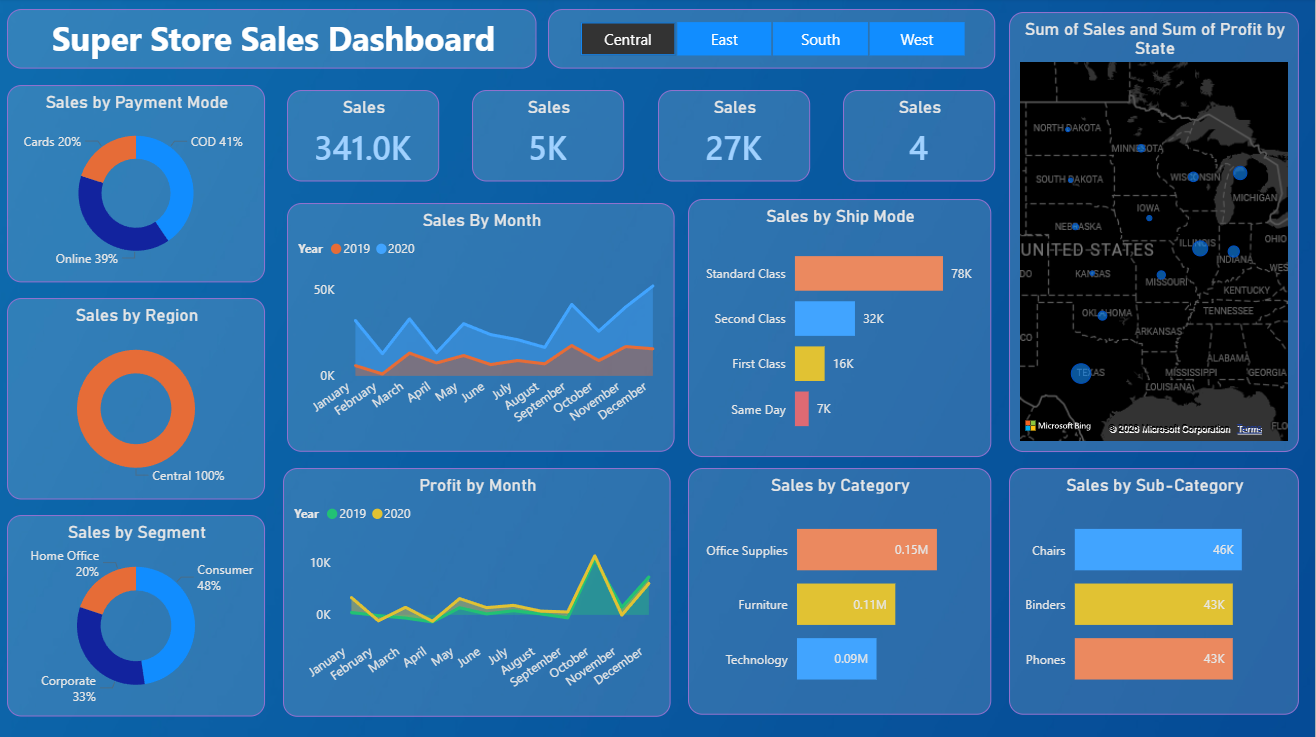

This screenshot's page, from the dashboard's own definition file:
{"tool":"powerbi","page":{"name":"Dashboard","canvas":[1280,720],"ordinal":0},"visuals":[{"type":"clusteredBarChart","title":"Sales by Category","fields":{"Category":["SuperStore_Sales_Dataset.Category"],"Y":["Sum(SuperStore_Sales_Dataset.Sales)"]},"box":[670.5,457.1,294.7,240.2],"z":0},{"type":"clusteredBarChart","title":"Sales by Sub-Category","fields":{"Category":["SuperStore_Sales_Dataset.Sub-Category"],"Y":["Sum(SuperStore_Sales_Dataset.Sales)"]},"box":[982.4,457.1,282.1,240.2],"z":1000},{"type":"clusteredBarChart","title":"Sales by Ship Mode","fields":{"Y":["Sum(SuperStore_Sales_Dataset.Sales)"],"Category":["SuperStore_Sales_Dataset.Ship Mode"]},"box":[670.2,195.5,294.7,250.9],"z":2000},{"type":"stackedAreaChart","title":"Sales By Month","fields":{"Y":["Sum(SuperStore_Sales_Dataset.Sales)"],"Category":["SuperStore_Sales_Dataset.Order Date.Variation.Date Hierarchy.Month","SuperStore_Sales_Dataset.Order Date.Variation.Date Hierarchy.Day"],"Series":["SuperStore_Sales_Dataset.Order Date.Variation.Date Hierarchy.Year"]},"box":[280.1,199.4,377.4,242.2],"z":3000},{"type":"stackedAreaChart","title":"Profit by Month","fields":{"Category":["SuperStore_Sales_Dataset.Order Date.Variation.Date Hierarchy.Month","SuperStore_Sales_Dataset.Order Date.Variation.Date Hierarchy.Day"],"Series":["SuperStore_Sales_Dataset.Order Date.Variation.Date Hierarchy.Year"],"Y":["Sum(SuperStore_Sales_Dataset.Profit)"]},"box":[275.9,457.1,377.4,242.2],"z":4000},{"type":"map","fields":{"Category":["SuperStore_Sales_Dataset.State"],"Size":["Sum(SuperStore_Sales_Dataset.Sales)"]},"box":[982.4,13.6,282.1,428],"z":5000},{"type":"donutChart","title":"Sales by Segment","fields":{"Category":["SuperStore_Sales_Dataset.Segment"],"Y":["Sum(SuperStore_Sales_Dataset.Sales)"]},"box":[7.8,502.9,250.9,196.5],"z":6000},{"type":"donutChart","title":"Sales by Payment Mode","fields":{"Category":["SuperStore_Sales_Dataset.Payment Mode"],"Y":["Sum(SuperStore_Sales_Dataset.Sales)"]},"box":[7.8,84.6,250.9,191.6],"z":7000},{"type":"donutChart","title":"Sales by Region","fields":{"Category":["SuperStore_Sales_Dataset.Region"],"Y":["Sum(SuperStore_Sales_Dataset.Sales)"]},"box":[7.8,291.3,250.9,196.5],"z":8000},{"type":"slicer","fields":{"Values":["SuperStore_Sales_Dataset.Region"]},"box":[534,10.7,434.8,58.4],"z":9000},{"type":"textbox","box":[7.8,10.7,514.5,58.4],"z":10000},{"type":"cardVisual","title":"Sales","fields":{"Data":["Sum(SuperStore_Sales_Dataset.Sales)"]},"box":[280.1,89.5,147.8,88.5],"z":11000},{"type":"cardVisual","title":"Sales","fields":{"Data":["Sum(SuperStore_Sales_Dataset.Quantity)"]},"box":[460.4,89.5,147.8,88.5],"z":12000},{"type":"cardVisual","title":"Sales","fields":{"Data":["Sum(SuperStore_Sales_Dataset.Profit)"]},"box":[640.6,89.5,147.8,88.5],"z":13000},{"type":"cardVisual","title":"Sales","fields":{"Data":["Avg(SuperStore_Sales_Dataset.AvgDelivery)"]},"box":[820.9,89.5,147.8,88.5],"z":14000}]}

Visuals, with their boxes in screenshot pixels (x1, y1, x2, y2), scaled from the page's 1280x720 canvas onto the 1316x737 screenshot:
"Sales by Category" clusteredBarChart: <box>689,468,992,714</box>
"Sales by Sub-Category" clusteredBarChart: <box>1010,468,1300,714</box>
"Sales by Ship Mode" clusteredBarChart: <box>689,200,992,457</box>
"Sales By Month" stackedAreaChart: <box>288,204,676,452</box>
"Profit by Month" stackedAreaChart: <box>284,468,672,716</box>
map - SuperStore_Sales_Dataset.State x Sum(SuperStore_Sales_Dataset.Sales): <box>1010,14,1300,452</box>
"Sales by Segment" donutChart: <box>8,515,266,716</box>
"Sales by Payment Mode" donutChart: <box>8,87,266,283</box>
"Sales by Region" donutChart: <box>8,298,266,499</box>
slicer - SuperStore_Sales_Dataset.Region: <box>549,11,996,71</box>
textbox: <box>8,11,537,71</box>
"Sales" cardVisual: <box>288,92,440,182</box>
"Sales" cardVisual: <box>473,92,625,182</box>
"Sales" cardVisual: <box>659,92,811,182</box>
"Sales" cardVisual: <box>844,92,996,182</box>
